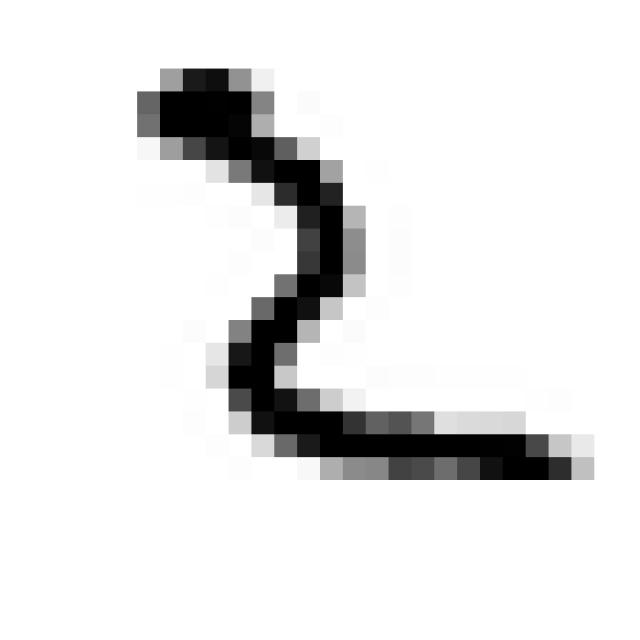4 -four-: (119, 50, 594, 508)
